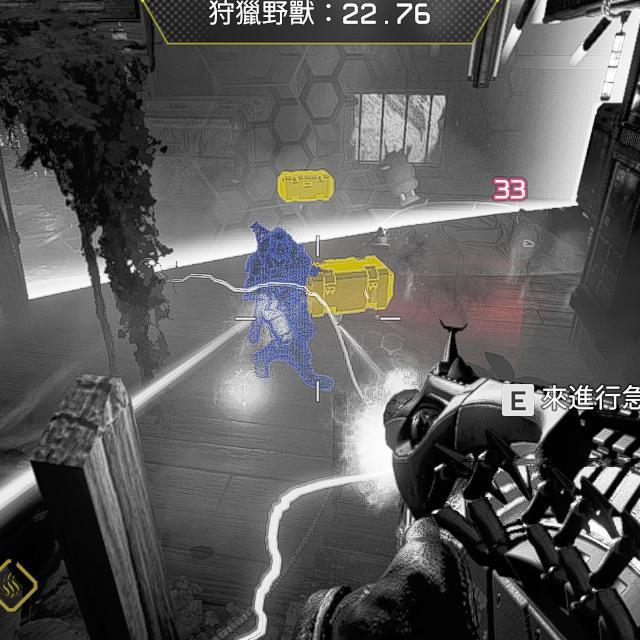avatar: (240, 220, 316, 392)
